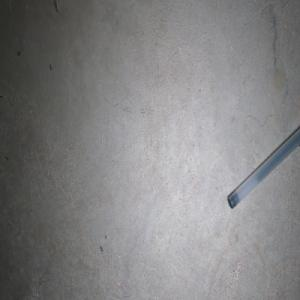Pen: (227, 127, 300, 208)
